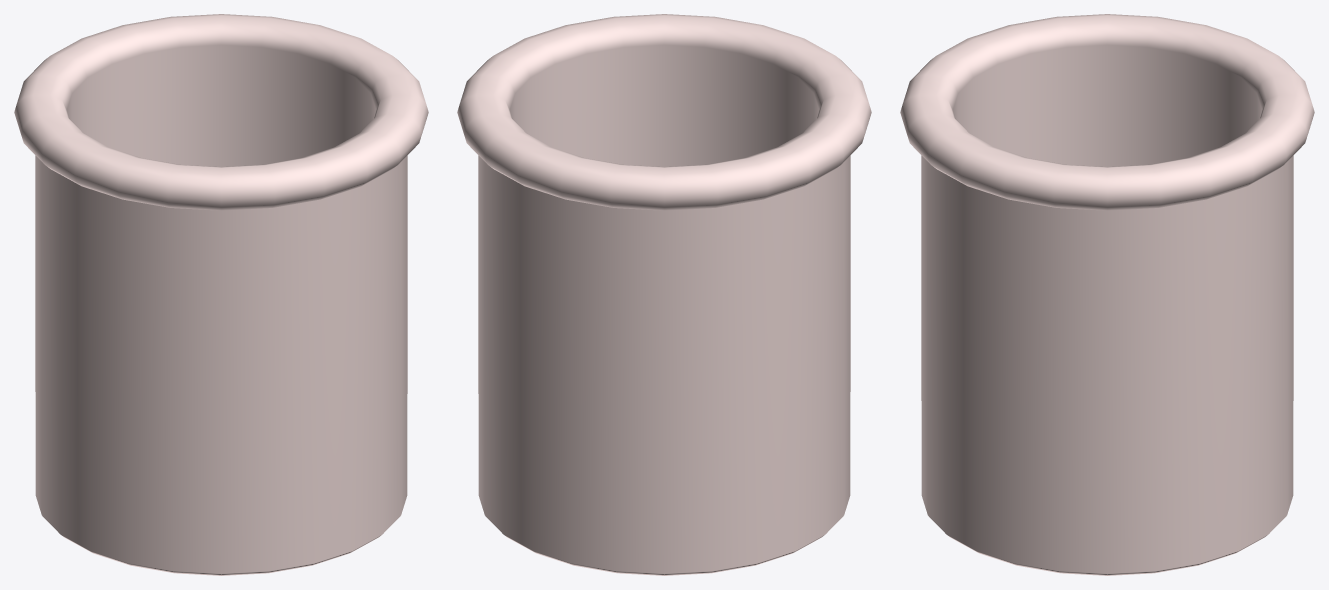
Rendered from Public_20_Cup_1.glb.
3 renders of one model, left to right at view 1: azimuth 30°, elevation 25°; view 2: azimuth 150°, elevation 25°; view 3: azimuth 270°, elevation 25°, orthographic.
Visible parts, largest first — view 1: Public_20_Cup_1; view 2: Public_20_Cup_1; view 3: Public_20_Cup_1.
Part boxes in pixels (x1,y1,x2,y2): Public_20_Cup_1: [14, 14, 428, 575]; Public_20_Cup_1: [457, 14, 871, 575]; Public_20_Cup_1: [900, 14, 1314, 575].
Bounding box in the file's own units: 1.24 × 1.34 × 1.24.
Materials: 1 (1 with a texture image).
